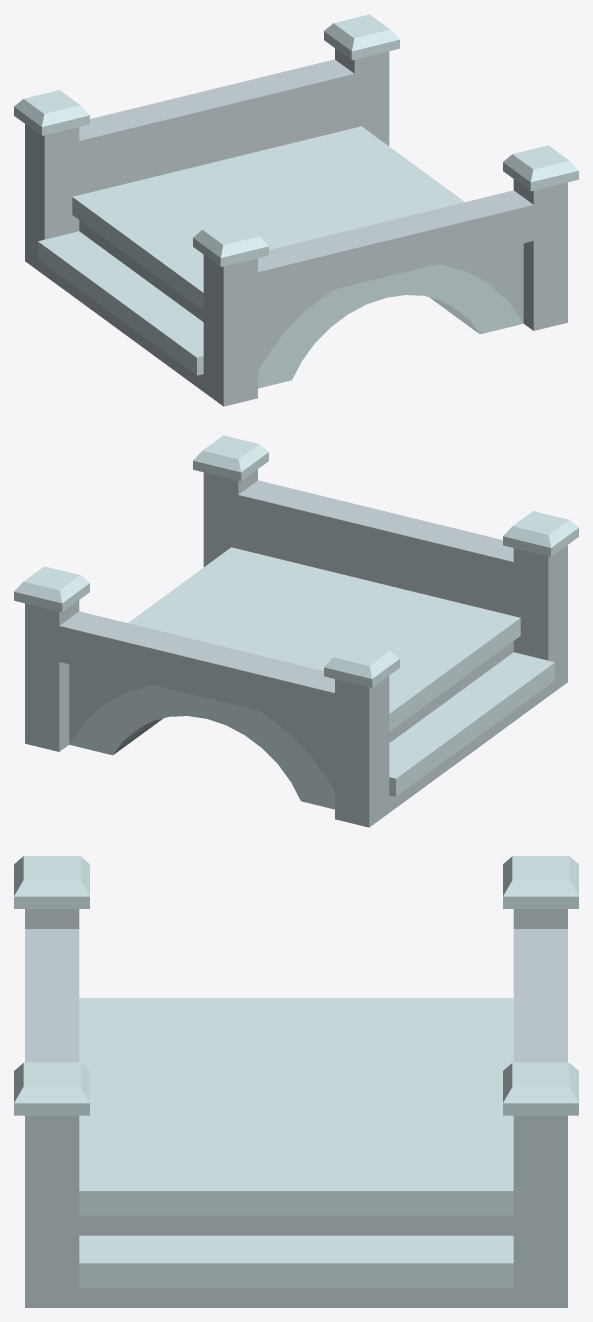
The model's file is bridge_stoneRound.glb.
3 views of the same model, one above another, from view 1: azimuth 30°, elevation 25°; view 2: azimuth 150°, elevation 25°; view 3: azimuth 270°, elevation 25° (orthographic). The views are drawn at different scales.
Visible parts, largest first — view 1: bridge_stoneRound; view 2: bridge_stoneRound; view 3: bridge_stoneRound.
Boxes of the visible parts, x1,y1,x2,y2 form: bridge_stoneRound: (14, 14, 578, 406); bridge_stoneRound: (14, 435, 578, 827); bridge_stoneRound: (14, 856, 578, 1307).
Bounding box in the file's own units: 1.04 × 0.45 × 1.04.
Materials: 1 (1 with a texture image).
